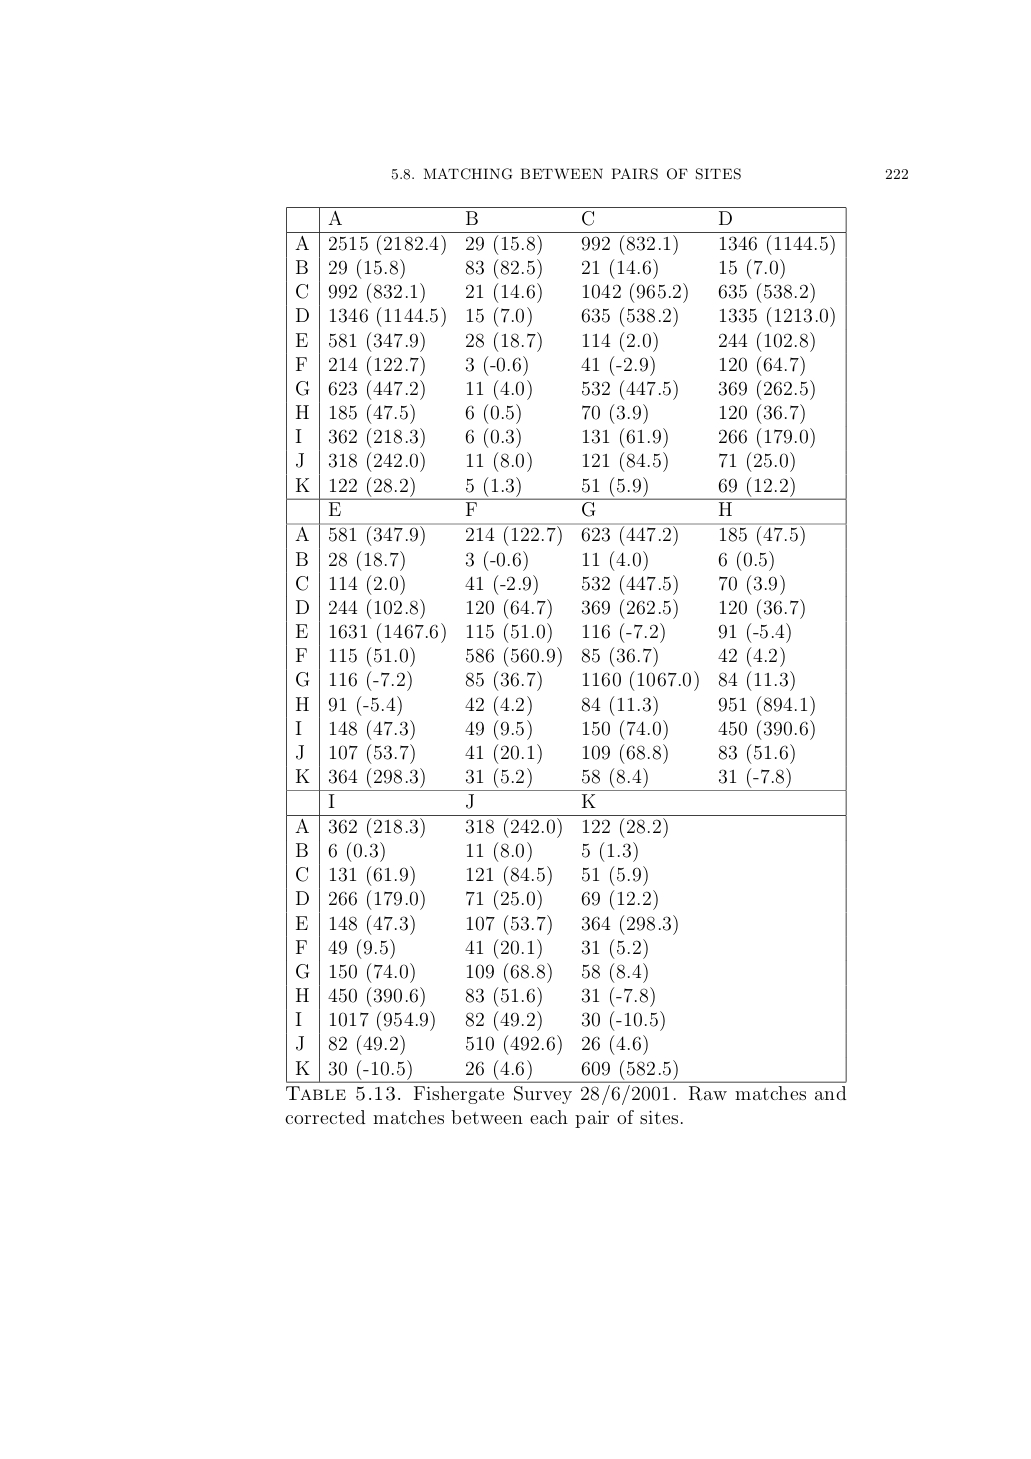Table: (286, 207, 846, 1085)
